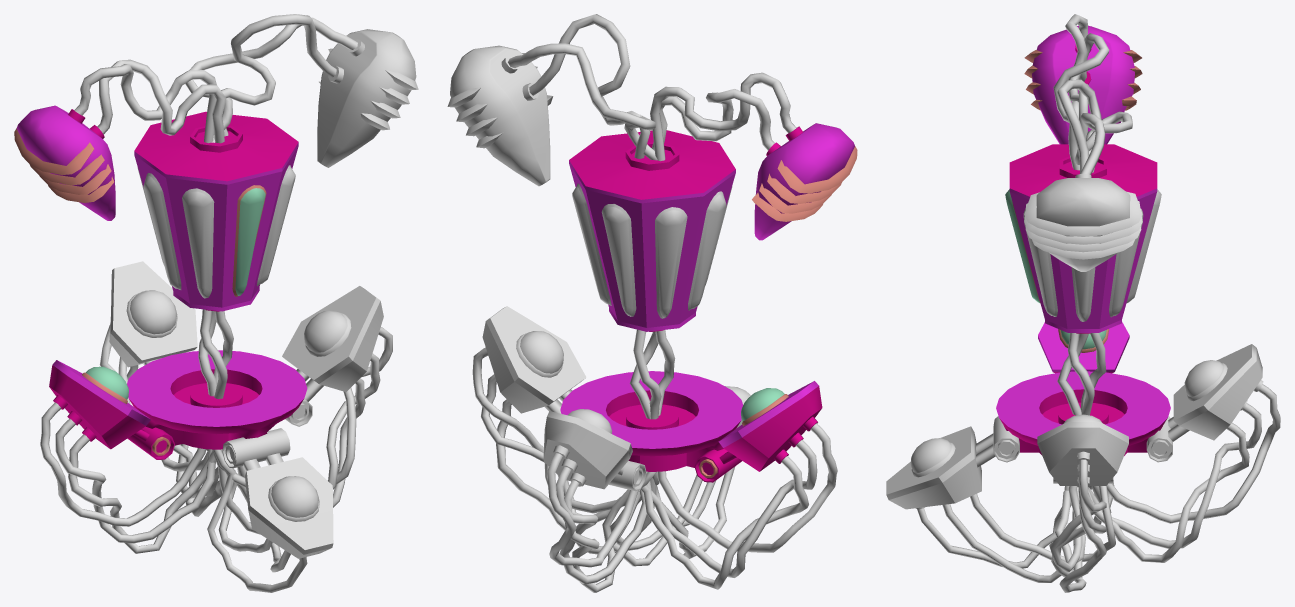
The model's file is Task_task_01_1.fbx.
3 renders of one model, left to right at view 1: azimuth 30°, elevation 25°; view 2: azimuth 150°, elevation 25°; view 3: azimuth 270°, elevation 25°, orthographic. The views are drawn at different scales.
Parts seen in each view (by area): view 1: Head, Bottom_fullModel, Arm_right.001, Light_right.001, Arm_right, Light_left, Light_right_wire, Light_back, Light_right, Arm_right_wire, Arm_left_wire, Light_left_wire (+3 smaller); view 2: Head, Bottom_fullModel, Arm_right.001, Arm_right, Light_right_wire, Light_left, Light_right, Light_back, Light_back_wire, Arm_right_wire, Arm_left_wire, Light_left_wire (+2 smaller); view 3: Head, Arm_right.001, Bottom_fullModel, Light_right.001, Arm_right, Light_back, Light_back_wire, Light_left, Light_front_wire, Light_left_wire, Arm_left_wire, Arm_right_wire (+2 smaller).
Part boxes in pixels (box(x1,y1,x2,y2)): Head: box(134, 111, 298, 311); Bottom_fullModel: box(127, 350, 307, 449); Arm_right.001: box(317, 29, 418, 167); Light_right.001: box(222, 428, 333, 558); Arm_right: box(14, 105, 115, 220); Light_left: box(282, 286, 383, 426); Light_right_wire: box(40, 402, 215, 553); Light_back: box(109, 261, 197, 367); Light_right: box(49, 360, 174, 459); Arm_right_wire: box(74, 59, 226, 143); Arm_left_wire: box(185, 14, 357, 142); Light_left_wire: box(218, 327, 392, 534); Head: box(569, 130, 735, 331); Bottom_fullModel: box(560, 371, 743, 471); Arm_right.001: box(447, 45, 553, 186); Arm_right: box(752, 123, 857, 240); Light_right_wire: box(641, 423, 837, 589); Light_left: box(482, 306, 586, 413); Light_right: box(694, 381, 822, 482); Light_back: box(543, 409, 646, 491); Light_back_wire: box(547, 453, 647, 592); Arm_right_wire: box(650, 72, 796, 161); Arm_left_wire: box(508, 14, 657, 160); Light_left_wire: box(472, 347, 656, 554); Head: box(1005, 144, 1161, 333); Arm_right.001: box(1024, 174, 1142, 271); Bottom_fullModel: box(996, 371, 1170, 455); Light_right.001: box(886, 416, 1019, 509); Arm_right: box(1024, 25, 1142, 144); Light_back: box(1146, 344, 1263, 462); Light_back_wire: box(1088, 384, 1280, 562); Light_left: box(1037, 414, 1128, 487); Light_front_wire: box(917, 486, 1115, 582); Light_left_wire: box(1049, 459, 1106, 592); Arm_left_wire: box(1057, 79, 1132, 174); Arm_right_wire: box(1053, 14, 1109, 170).
Size of the model in its own units: 2.09 by 2.88 by 2.
